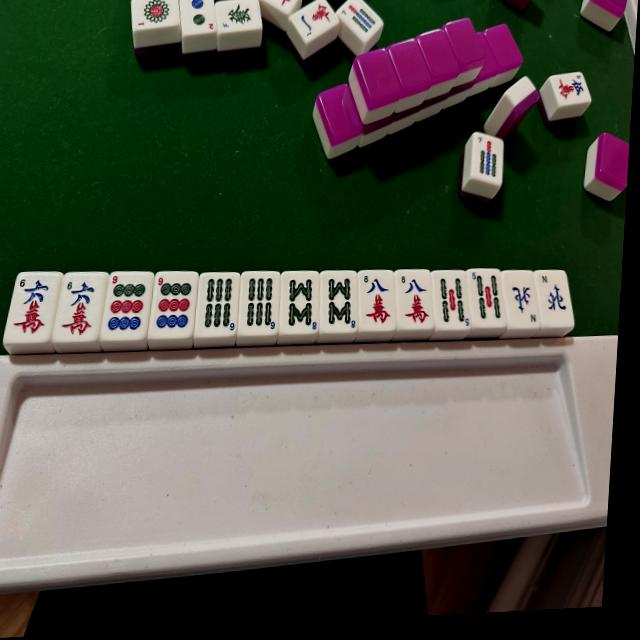1C: (291, 0, 338, 42)
1D: (131, 0, 180, 31)
2D: (182, 0, 214, 31)
5B: (436, 275, 473, 329), (467, 271, 504, 323)
5C: (550, 71, 592, 106)
6B: (242, 274, 280, 333), (202, 276, 240, 334)
6C: (14, 274, 56, 338), (61, 277, 100, 340)
7B: (337, 0, 383, 41), (471, 133, 504, 183)
8B: (323, 273, 360, 329), (284, 274, 320, 331)
8C: (359, 272, 394, 328), (398, 273, 434, 327)
9D: (106, 274, 149, 335), (153, 273, 197, 332)
GD: (216, 0, 261, 34)
NW: (537, 272, 570, 319), (508, 278, 539, 323)
